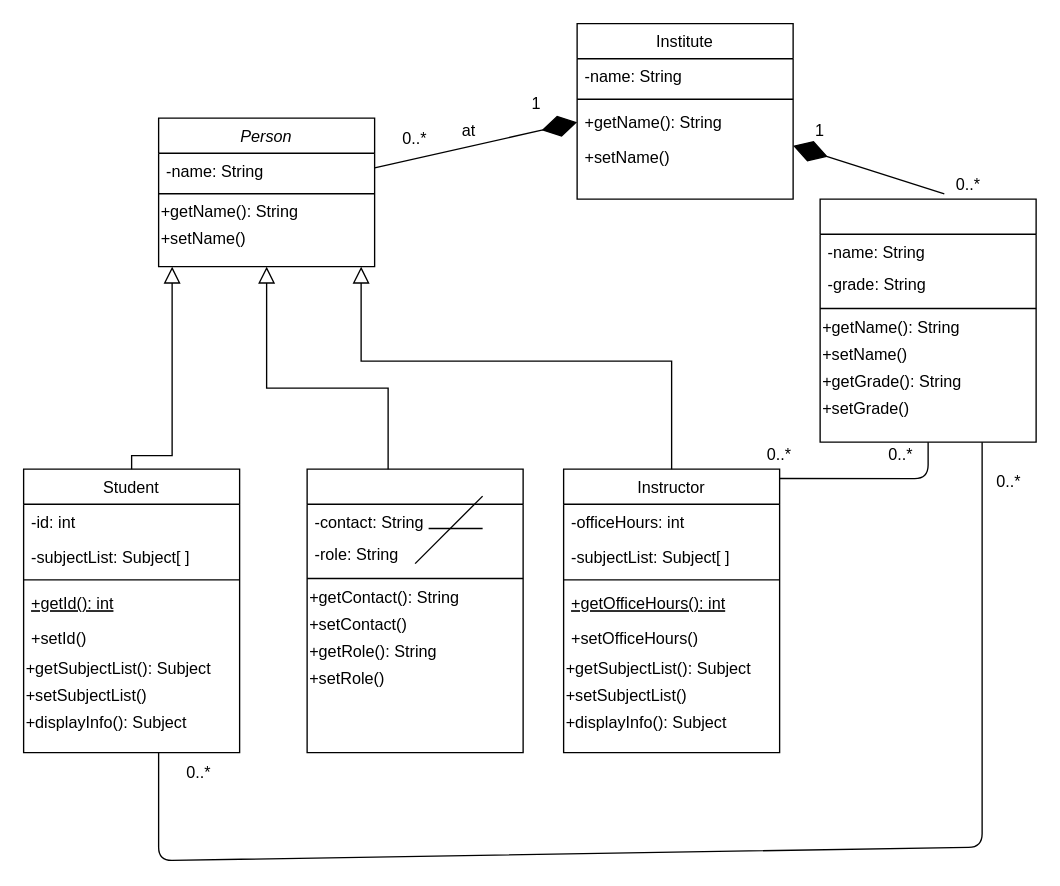
Some shapes in this 1060 by 886 pixel diagram are drawn without their labels. The box of each missing label's shape, as (x1, y1, x2, y2) in pixels:
Administrator: (306, 468, 523, 753)
Subject: (819, 198, 1036, 442)
